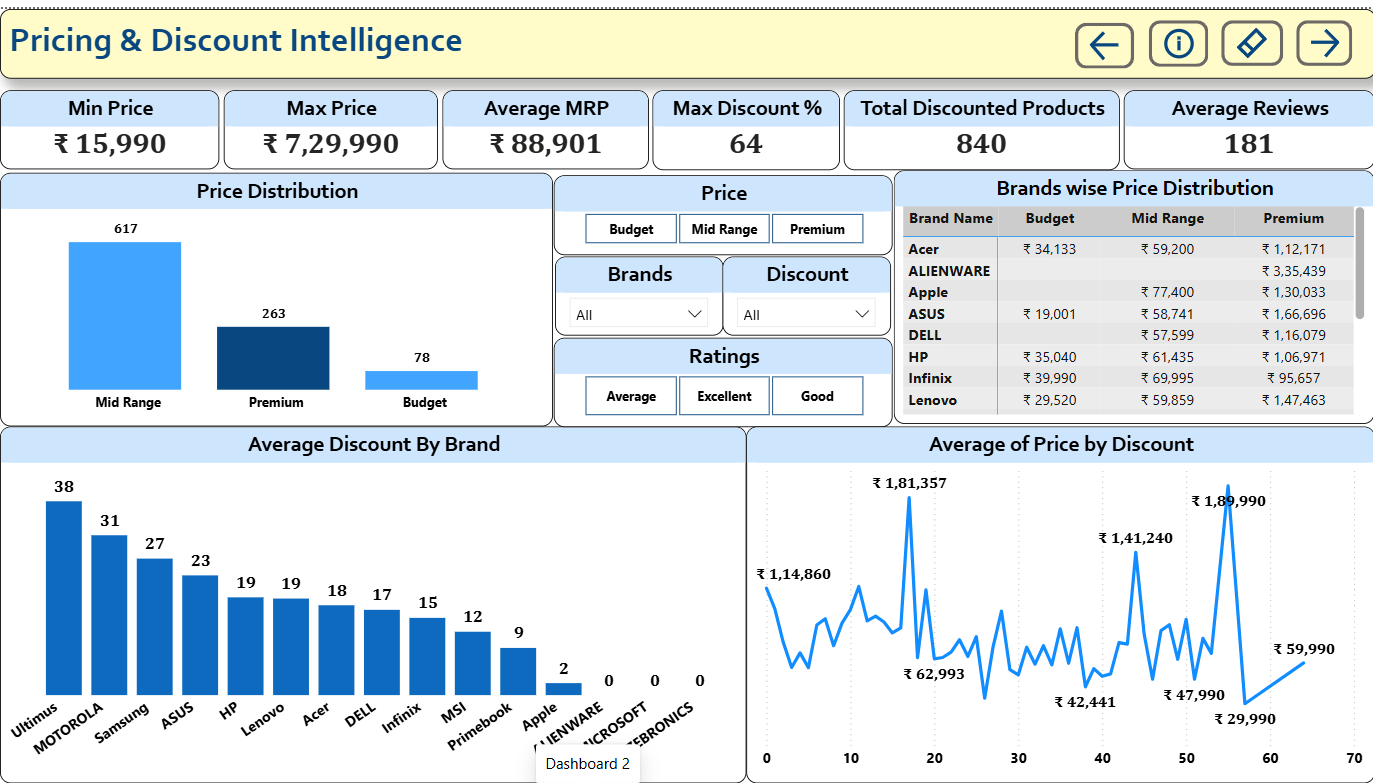

The page's visual inventory and layout, read from the dashboard file:
{"tool":"powerbi","page":{"name":"Dashboard 2","canvas":[1280,720],"ordinal":3},"visuals":[{"type":"textbox","box":[0,0,1280.3,64.8],"z":0},{"type":"card","title":"Average MRP","fields":{"Values":["Avg(Flipcart_WS_Use.M.R.P)"]},"box":[411.2,75.8,192,73.4],"z":1000},{"type":"card","title":"Max Price ","fields":{"Values":["Max(Flipcart_WS_Use.Price)"]},"box":[208,75.8,199.3,73.4],"z":2000},{"type":"card","title":"Max Discount %","fields":{"Values":["Max(Flipcart_WS_Use.Discount)"]},"box":[607,75.5,174.3,74.1],"z":3000},{"type":"card","title":"Total Discounted Products","fields":{"Values":["CountNonNull(Flipcart_WS_Use.Product)"]},"box":[785.1,75.5,256.6,74.1],"z":4000},{"type":"card","title":"Average Reviews","fields":{"Values":["Avg(Flipcart_WS_Use.Review)"]},"box":[1045.5,75.8,233.6,73.4],"z":5000},{"type":"card","title":"Min Price","fields":{"Values":["Min(Flipcart_WS_Use.Price)"]},"box":[0,75.8,204.2,73.4],"z":6000},{"type":"columnChart","title":"Price Distribution","fields":{"Category":["Flipcart_WS_Use.Price Category"],"Y":["CountNonNull(Flipcart_WS_Use.Product)"]},"box":[0,152.3,514.6,236],"z":7000},{"type":"columnChart","title":"Average Discount By Brand","fields":{"Category":["Flipcart_WS_Use.Brand Name"],"Y":["Avg(Flipcart_WS_Use.Discount)"]},"box":[0,388.3,694.3,332.1],"z":8000},{"type":"slicer","title":"Brands","fields":{"Values":["Flipcart_WS_Use.Brand Name"]},"box":[516,229.9,156.5,73.4],"z":9000},{"type":"slicer","title":"Ratings","fields":{"Values":["Flipcart_WS_Use.Rating Category"]},"box":[514.8,305.7,315.5,83.2],"z":10000},{"type":"slicer","title":"Price","fields":{"Values":["Flipcart_WS_Use.Price Category"]},"box":[514.8,154.1,315.5,74.6],"z":11000},{"type":"actionButton","box":[1136.2,11,57.6,42.5],"z":12000},{"type":"actionButton","box":[1000.3,12.2,55,42.8],"z":13000},{"type":"actionButton","box":[1206.2,11,52.1,42.5],"z":14000},{"type":"lineChart","fields":{"Category":["Flipcart_WS_Use.Discount"],"Y":["Avg(Flipcart_WS_Use.Price)"]},"box":[694.3,388.3,584.6,332.1],"z":15000},{"type":"pivotTable","title":"Brands wise Price Distribution","fields":{"Rows":["Flipcart_WS_Use.Brand Name"],"Columns":["Flipcart_WS_Use.Price Category"],"Values":["Avg(Flipcart_WS_Use.Price)"]},"box":[831.6,149.6,447.3,236],"z":16000},{"type":"slicer","title":"Discount","fields":{"Values":["Flipcart_WS_Use.Discount Range"]},"box":[672.6,229.9,156.5,73.4],"z":17000},{"type":"actionButton","box":[1068.9,10.9,55.5,43.4],"z":18000}]}

Visuals, with their boxes in screenshot pixels (x1, y1, x2, y2), scaled from the page's 1280x720 canvas onto the 1373x783 screenshot:
textbox: box(0, 0, 1372, 70)
"Average MRP" card: box(441, 82, 647, 162)
"Max Price " card: box(223, 82, 437, 162)
"Max Discount %" card: box(651, 82, 838, 163)
"Total Discounted Products" card: box(842, 82, 1117, 163)
"Average Reviews" card: box(1121, 82, 1372, 162)
"Min Price" card: box(0, 82, 219, 162)
"Price Distribution" columnChart: box(0, 166, 552, 422)
"Average Discount By Brand" columnChart: box(0, 422, 745, 782)
"Brands" slicer: box(553, 250, 721, 330)
"Ratings" slicer: box(552, 332, 891, 423)
"Price" slicer: box(552, 168, 891, 249)
actionButton: box(1219, 12, 1281, 58)
actionButton: box(1073, 13, 1132, 60)
actionButton: box(1294, 12, 1350, 58)
lineChart - Flipcart_WS_Use.Discount x Avg(Flipcart_WS_Use.Price): box(745, 422, 1372, 782)
"Brands wise Price Distribution" pivotTable: box(892, 163, 1372, 419)
"Discount" slicer: box(721, 250, 889, 330)
actionButton: box(1147, 12, 1206, 59)
